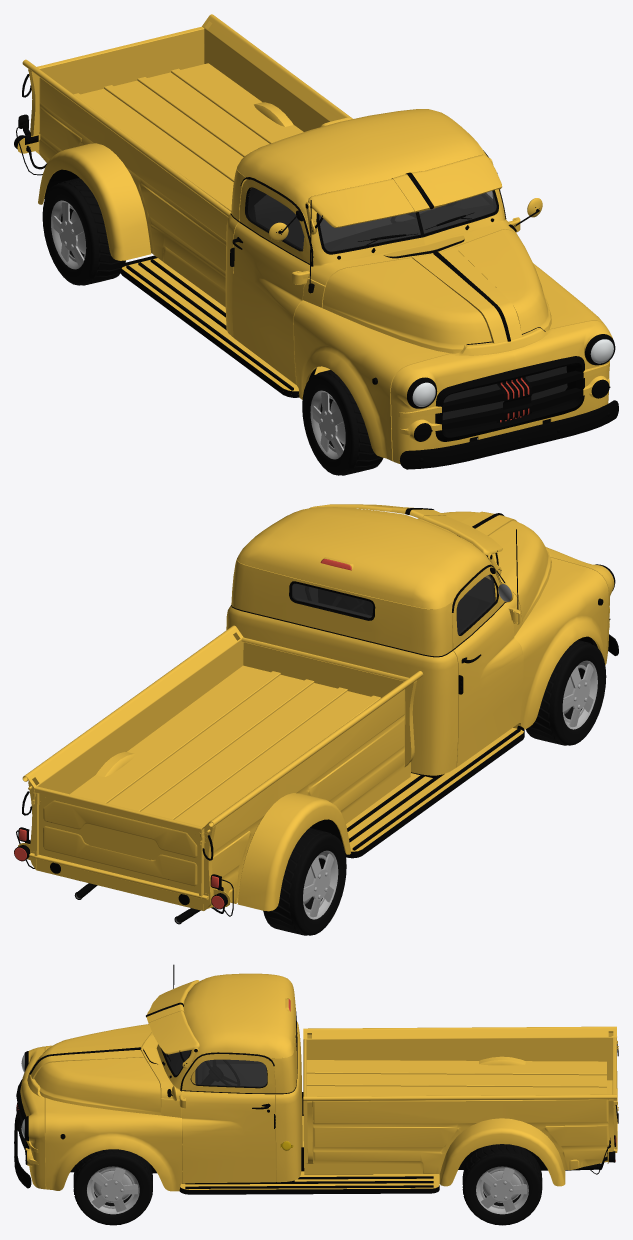
The model's file is player-mini-truck.fbx.
3 renders of one model, top to bottom at view 1: azimuth 30°, elevation 25°; view 2: azimuth 150°, elevation 25°; view 3: azimuth 270°, elevation 25°, orthographic. The views are drawn at different scales.
Parts seen in each view (by area): view 1: player-mini-truck, player-mini-truck-rear-wheel-R, player-mini-truck-front-wheel-R; view 2: player-mini-truck, player-mini-truck-rear-wheel-R, player-mini-truck-front-wheel-R; view 3: player-mini-truck, player-mini-truck-rear-wheel-L, player-mini-truck-front-wheel-L.
Boxes of the visible parts, x1=… form: player-mini-truck: x1=14, y1=14, x2=618, y2=469; player-mini-truck-rear-wheel-R: x1=42, y1=177, x2=125, y2=285; player-mini-truck-front-wheel-R: x1=302, y1=369, x2=383, y2=475; player-mini-truck: x1=14, y1=504, x2=618, y2=924; player-mini-truck-rear-wheel-R: x1=263, y1=828, x2=346, y2=935; player-mini-truck-front-wheel-R: x1=526, y1=640, x2=606, y2=745; player-mini-truck: x1=14, y1=964, x2=618, y2=1194; player-mini-truck-rear-wheel-L: x1=462, y1=1144, x2=542, y2=1225; player-mini-truck-front-wheel-L: x1=73, y1=1149, x2=152, y2=1225.
Size of the model in its own units: 2.45 by 2.2 by 6.63.
